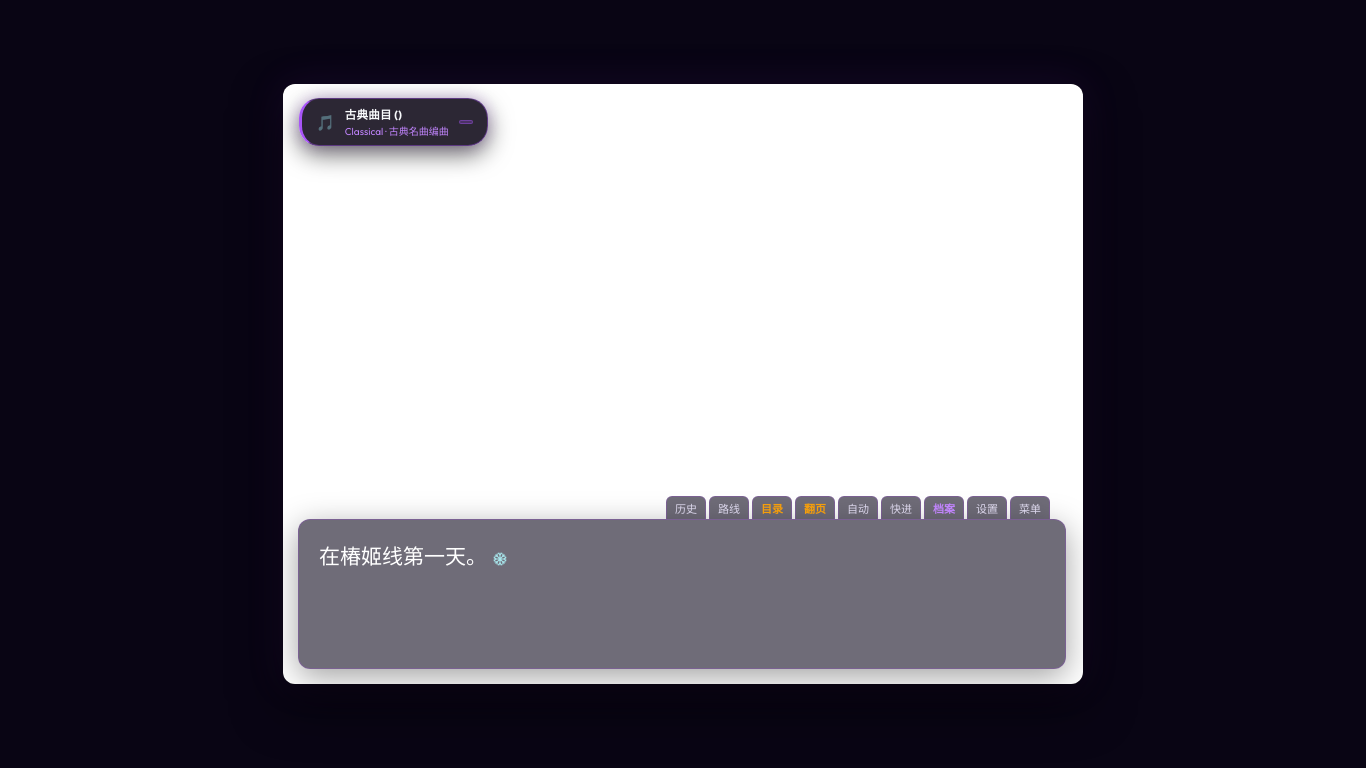
Test case: G-String Visual Novel Engine Unit Tests › displays locked/bypassed badges in ChoiceGraphModal when active on a heroine route
The width and height of the screenshot is (1366, 768).
Expected: the text "在椿姬线第一天。" is shown, [319,543,487,569]
What coordinates should you click on to do the following:
click the button "路线"
I would click on:
 (729, 508)
Its box is [709,496,749,519].
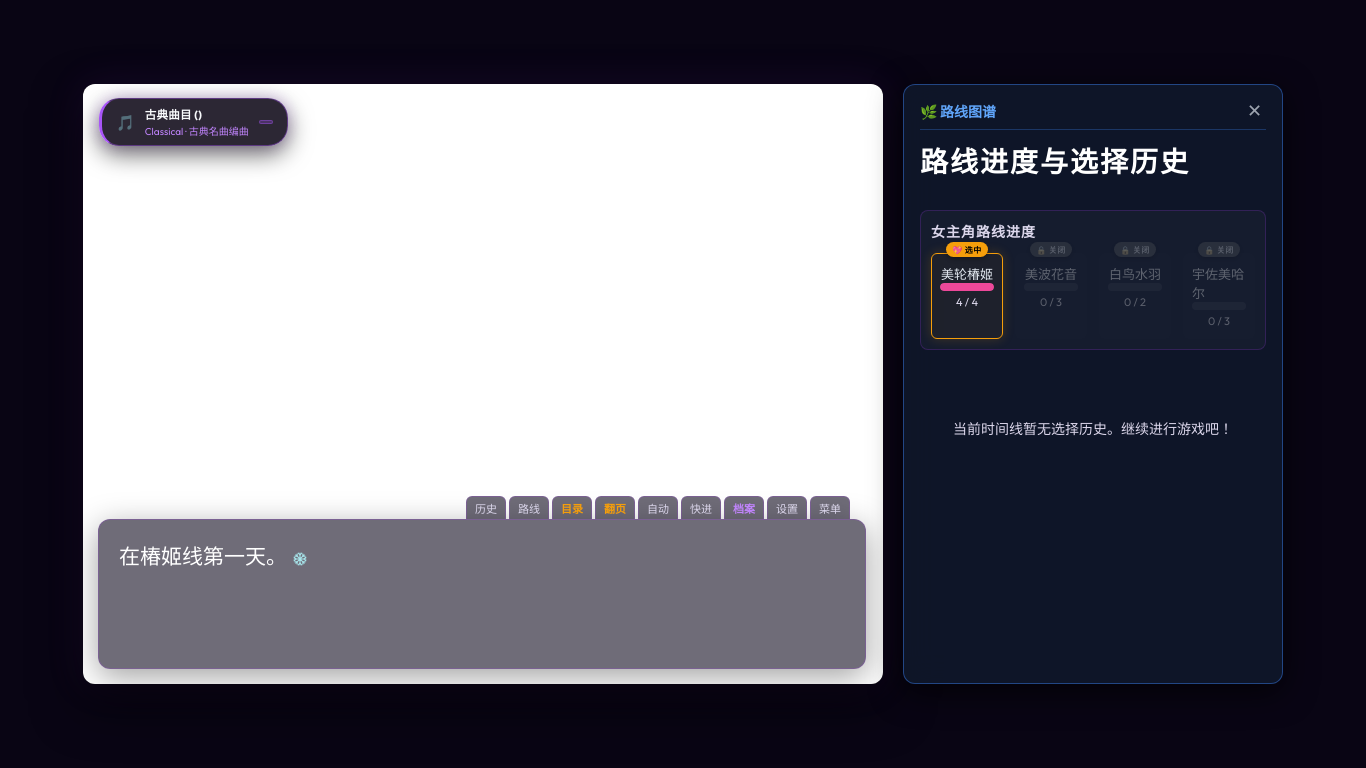
Result: the heading "路线进度与选择历史" is shown at [920,144,1190,179]
Result: the text "💖 选中" is shown at [946,242,988,257]
